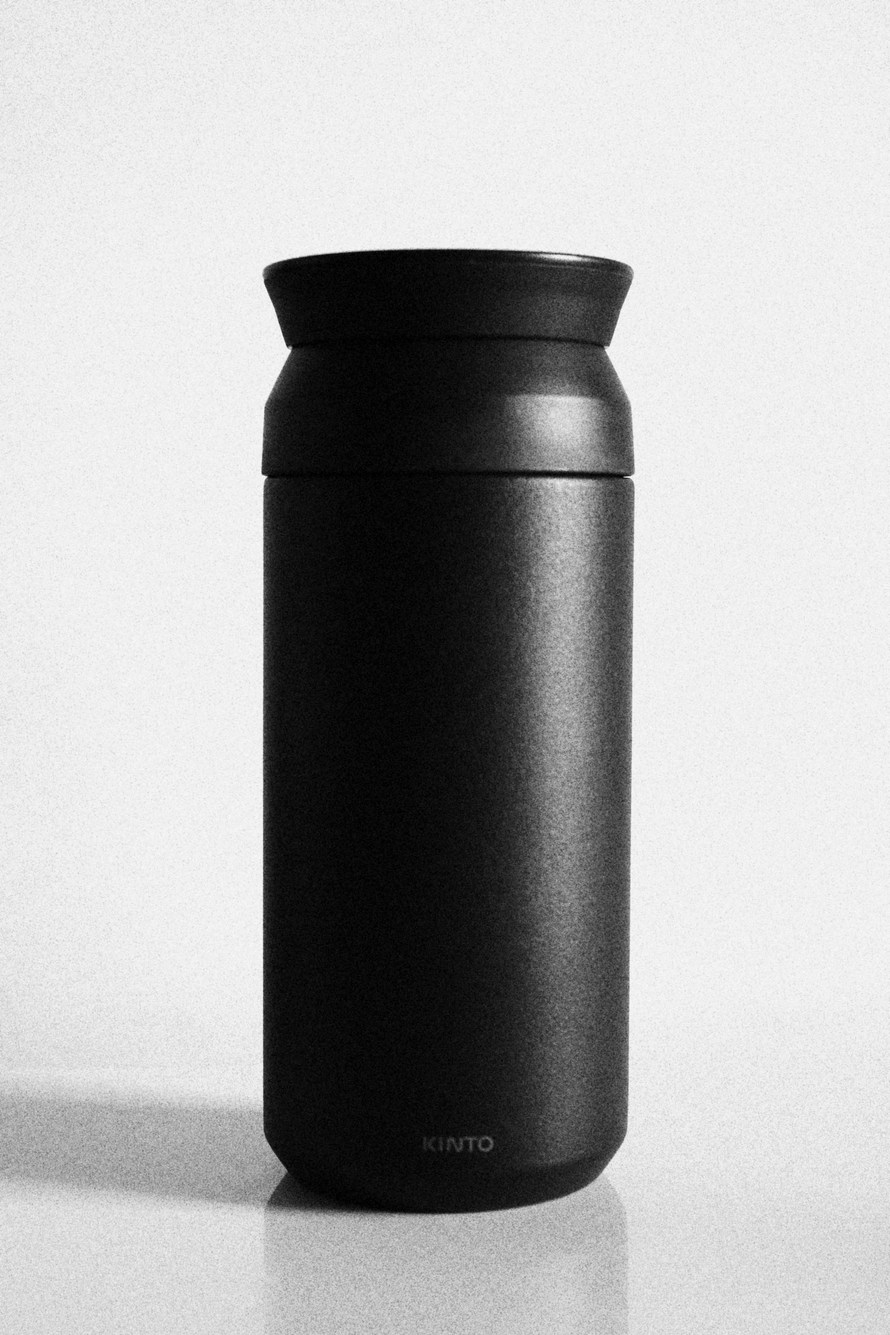Bottle-Detection: (187, 171, 694, 1273)
